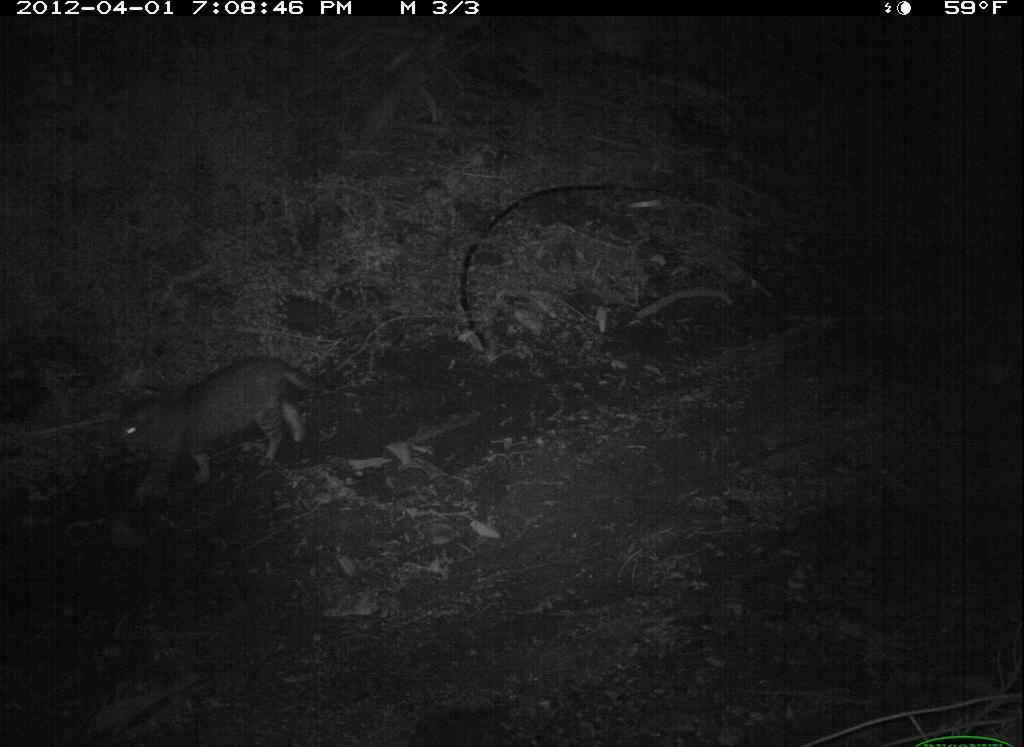cat: (98, 346, 342, 509)
